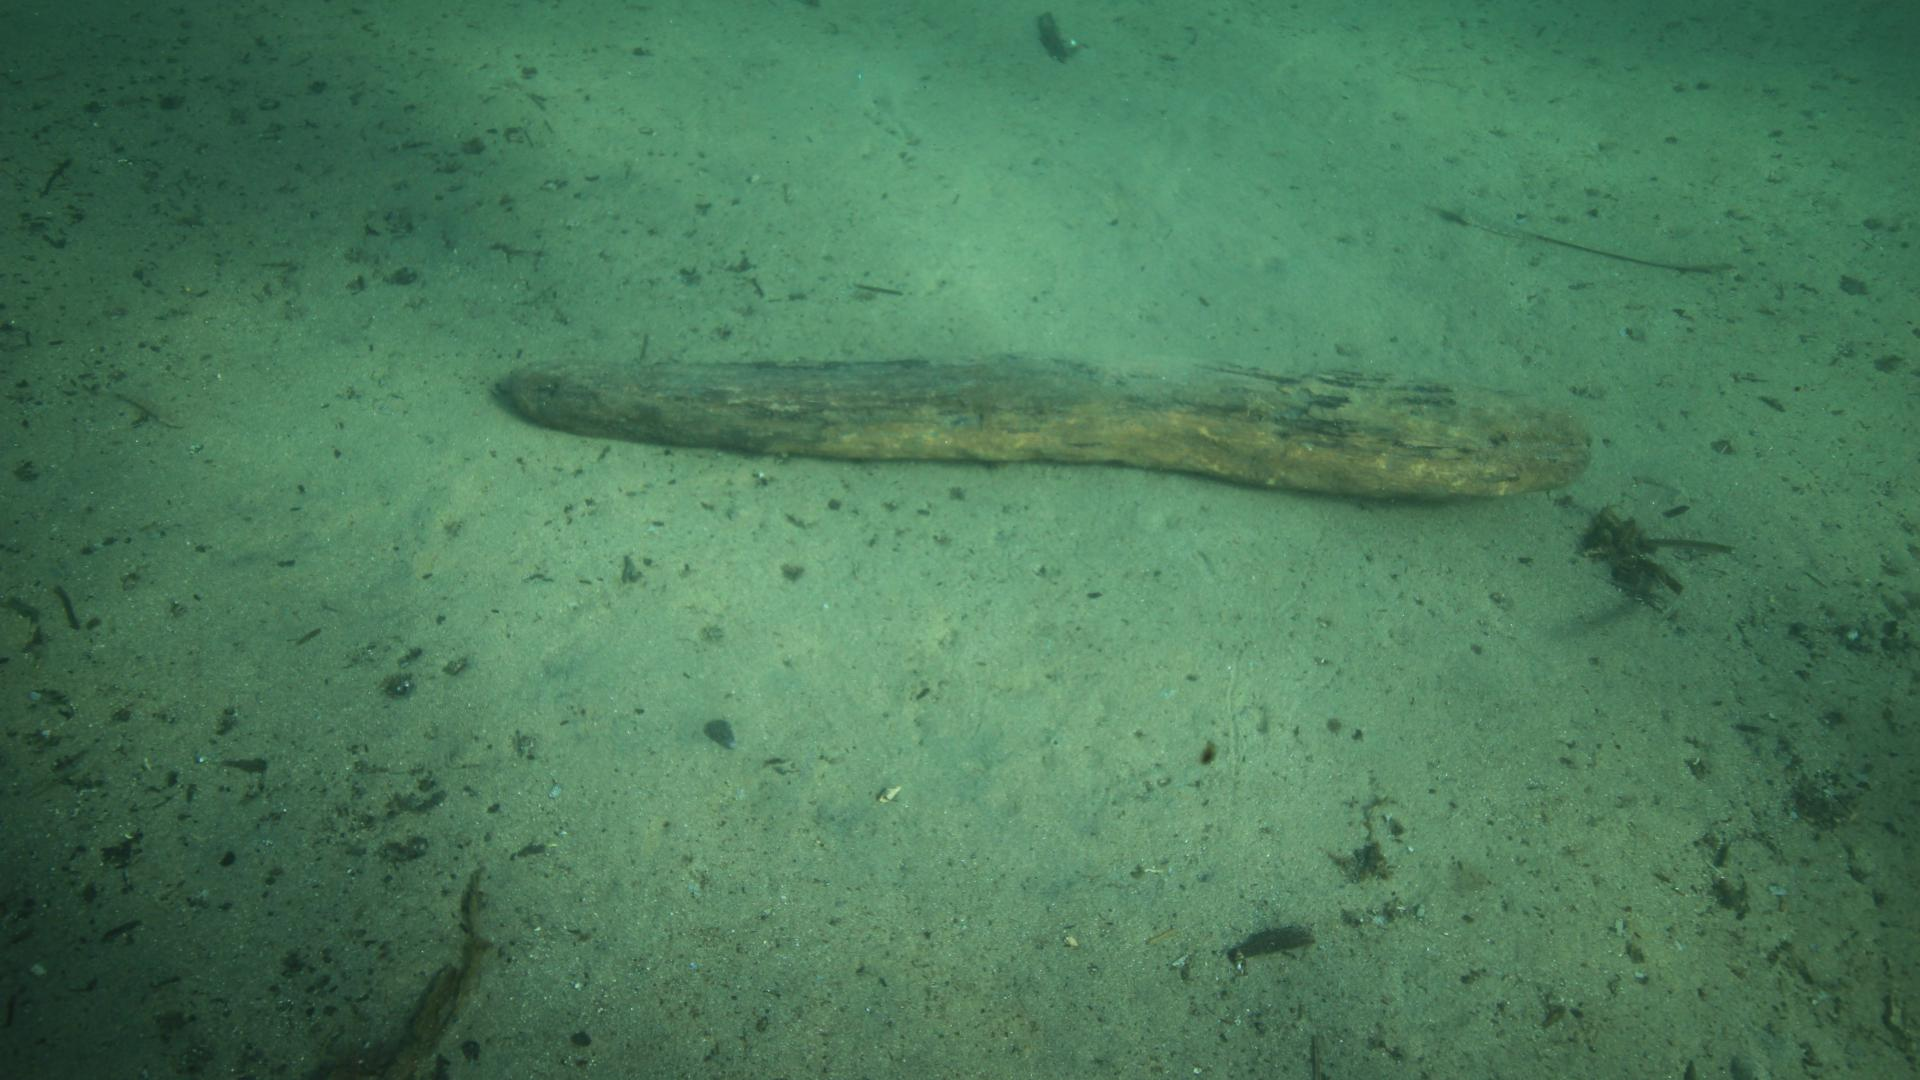wood: (489, 353, 1596, 498)
